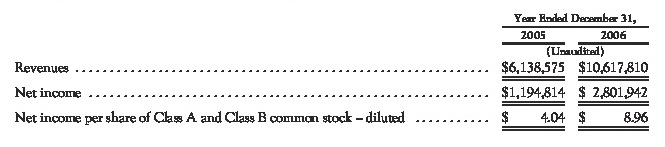table: (0, 0, 665, 147)
